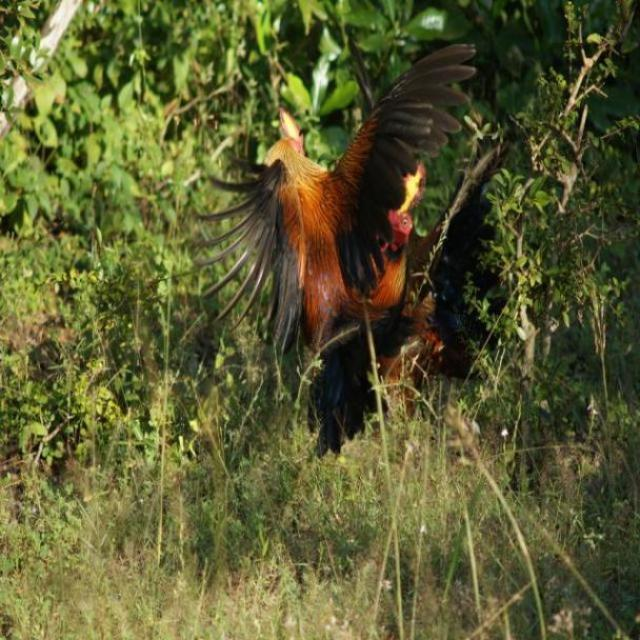Chicken: (196, 46, 477, 335), (307, 139, 510, 447)
